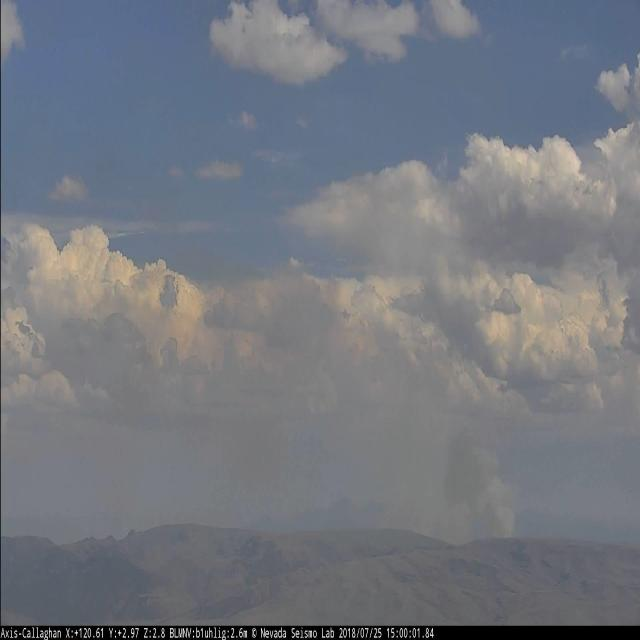smoke: (288, 290, 516, 540)
